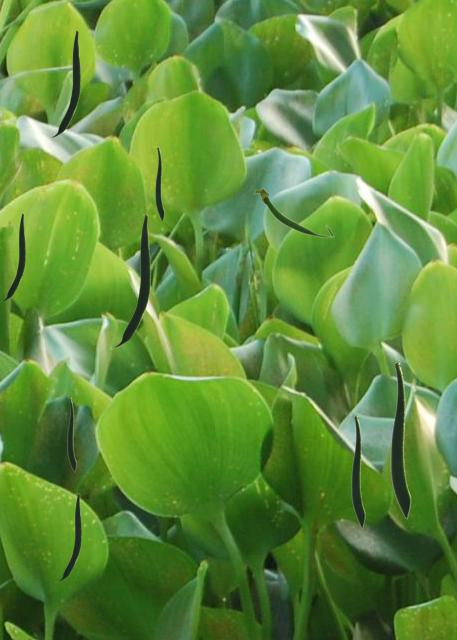french_bean: (113, 214, 149, 346), (253, 187, 333, 237), (390, 360, 410, 518), (51, 30, 79, 136), (58, 493, 80, 580), (2, 213, 24, 300), (351, 414, 364, 527), (67, 397, 75, 471), (155, 146, 163, 220)
